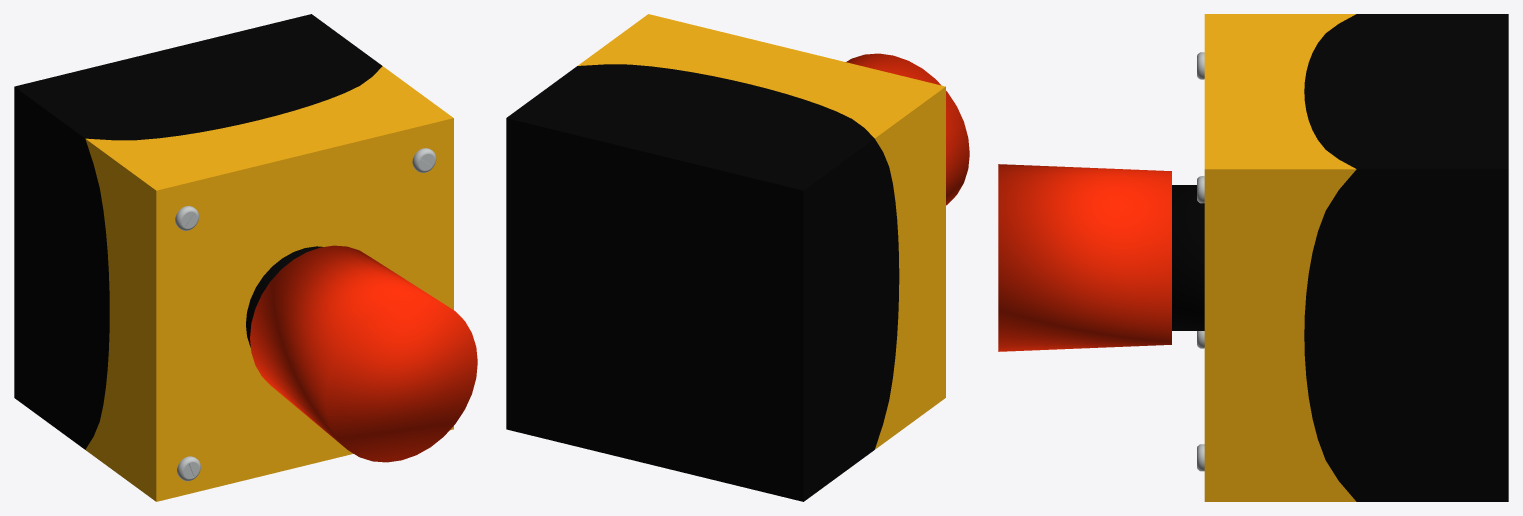
File: emergency_shutdown.gltf
The picture shows the model from 3 angles, left to right: view 1: azimuth 30°, elevation 25°; view 2: azimuth 150°, elevation 25°; view 3: azimuth 270°, elevation 25°; orthographic projection. The views are drawn at different scales.
Visible parts, largest first — view 1: Cube.016, Cube.015, Cylinder.084, Cylinder.083; view 2: Cube.015, Cube.016, Cylinder.084; view 3: Cube.015, Cube.016, Cylinder.084, Cylinder.083.
Part boxes in pixels (x1=…): Cube.016: x1=85, y1=66, x2=453, y2=501; Cube.015: x1=14, y1=14, x2=382, y2=449; Cylinder.084: x1=250, y1=245, x2=477, y2=462; Cylinder.083: x1=246, y1=246, x2=322, y2=347; Cube.015: x1=506, y1=64, x2=899, y2=501; Cube.016: x1=578, y1=14, x2=945, y2=449; Cylinder.084: x1=846, y1=53, x2=969, y2=205; Cube.015: x1=1304, y1=14, x2=1508, y2=501; Cube.016: x1=1204, y1=14, x2=1356, y2=501; Cylinder.084: x1=998, y1=164, x2=1171, y2=351; Cylinder.083: x1=1172, y1=185, x2=1204, y2=330.
Bounding box in the file's own units: 0.08 × 0.08 × 0.1112.
4 materials, 1 textured.
